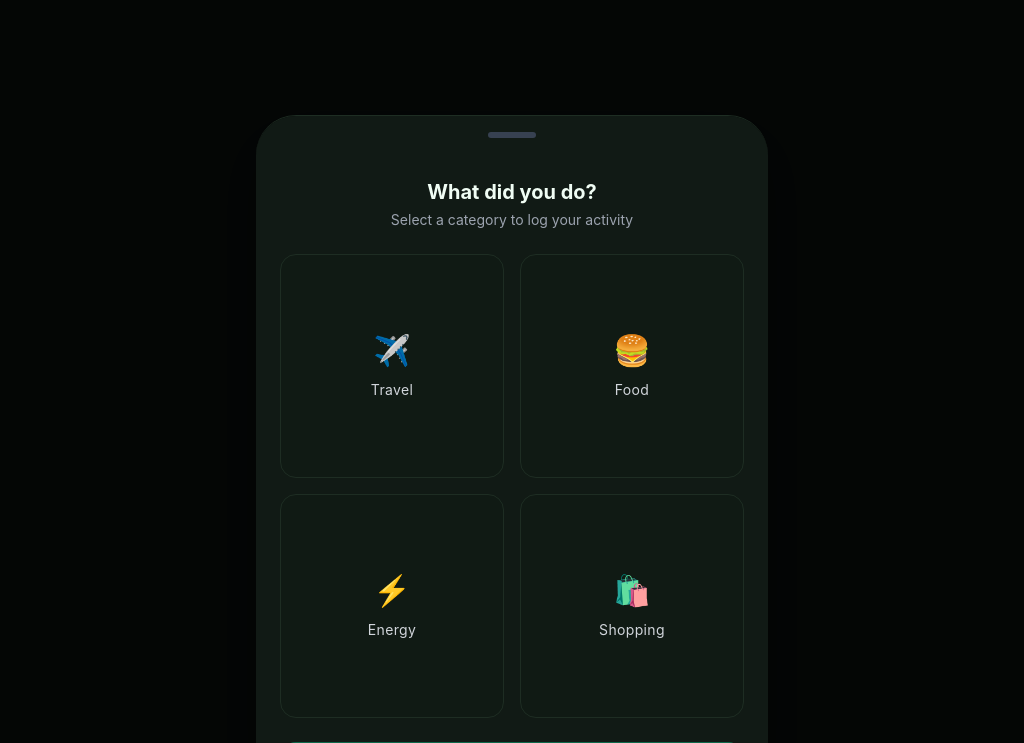
Test: LogSheet › advances to ActivityList (step 2) when a category is selected
Click the text "Travel" at point(392, 390), box [371, 380, 413, 400]
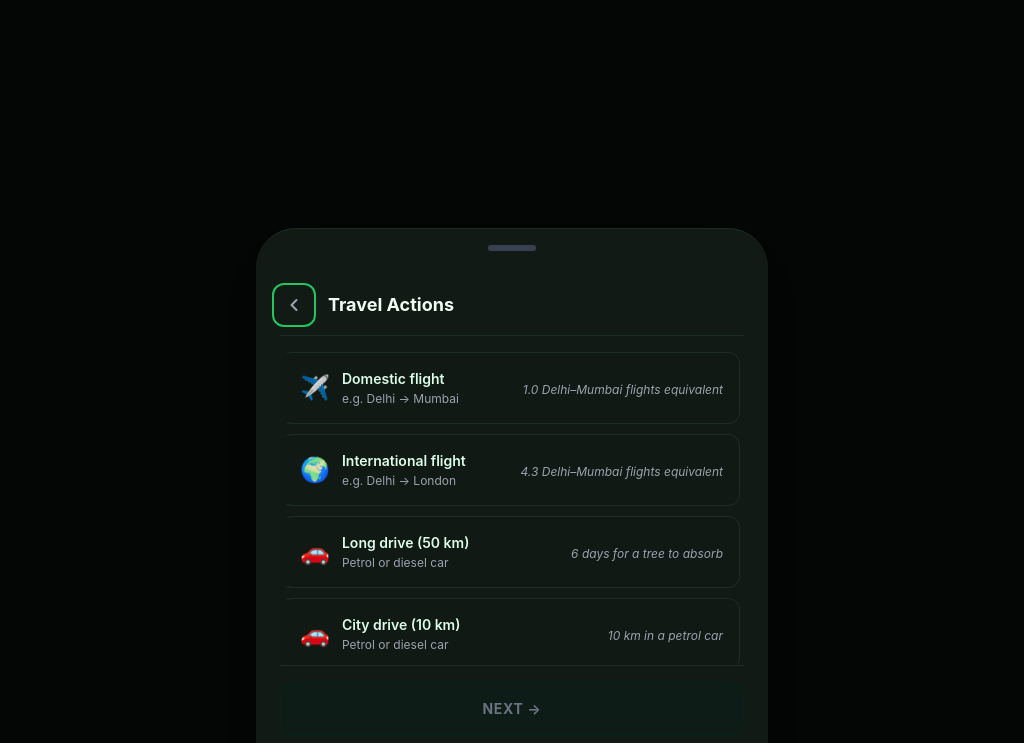
expect the heading "Travel Actions" is shown: met, box [328, 291, 454, 319]
